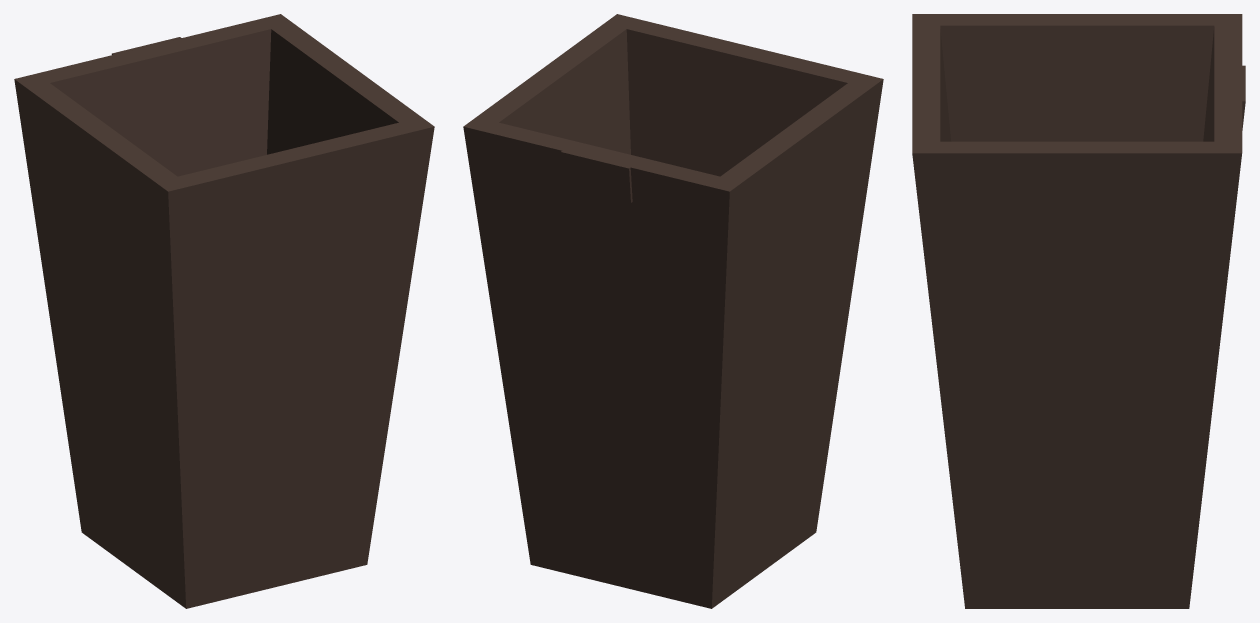
Rendered from Itr_Trashcan1_Body_06.FBX.
The picture shows the model from 3 angles, left to right: view 1: azimuth 30°, elevation 25°; view 2: azimuth 150°, elevation 25°; view 3: azimuth 270°, elevation 25°; orthographic projection. The views are drawn at different scales.
Parts seen in each view (by area): view 1: Itr_Trashcan1_Body_06; view 2: Itr_Trashcan1_Body_06; view 3: Itr_Trashcan1_Body_06.
Part boxes in pixels (left/top/right/bottom): Itr_Trashcan1_Body_06: left=14, top=14, right=434, bottom=608; Itr_Trashcan1_Body_06: left=463, top=14, right=883, bottom=608; Itr_Trashcan1_Body_06: left=912, top=14, right=1245, bottom=608.
Size of the model in its own units: 14.85 by 23.74 by 15.01.
